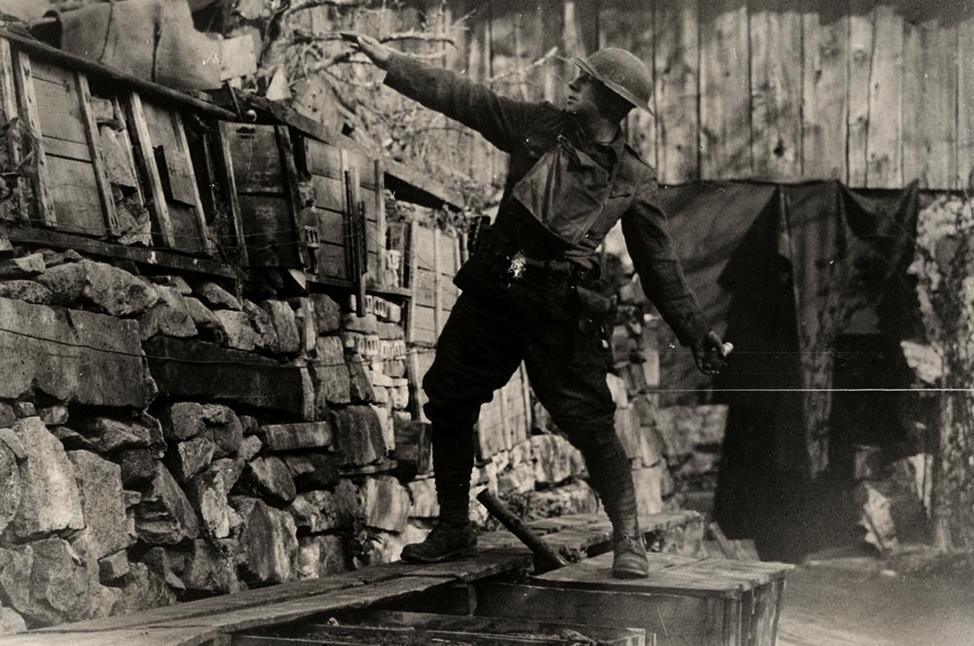Grenade: (702, 339, 736, 375), (505, 246, 529, 287)
